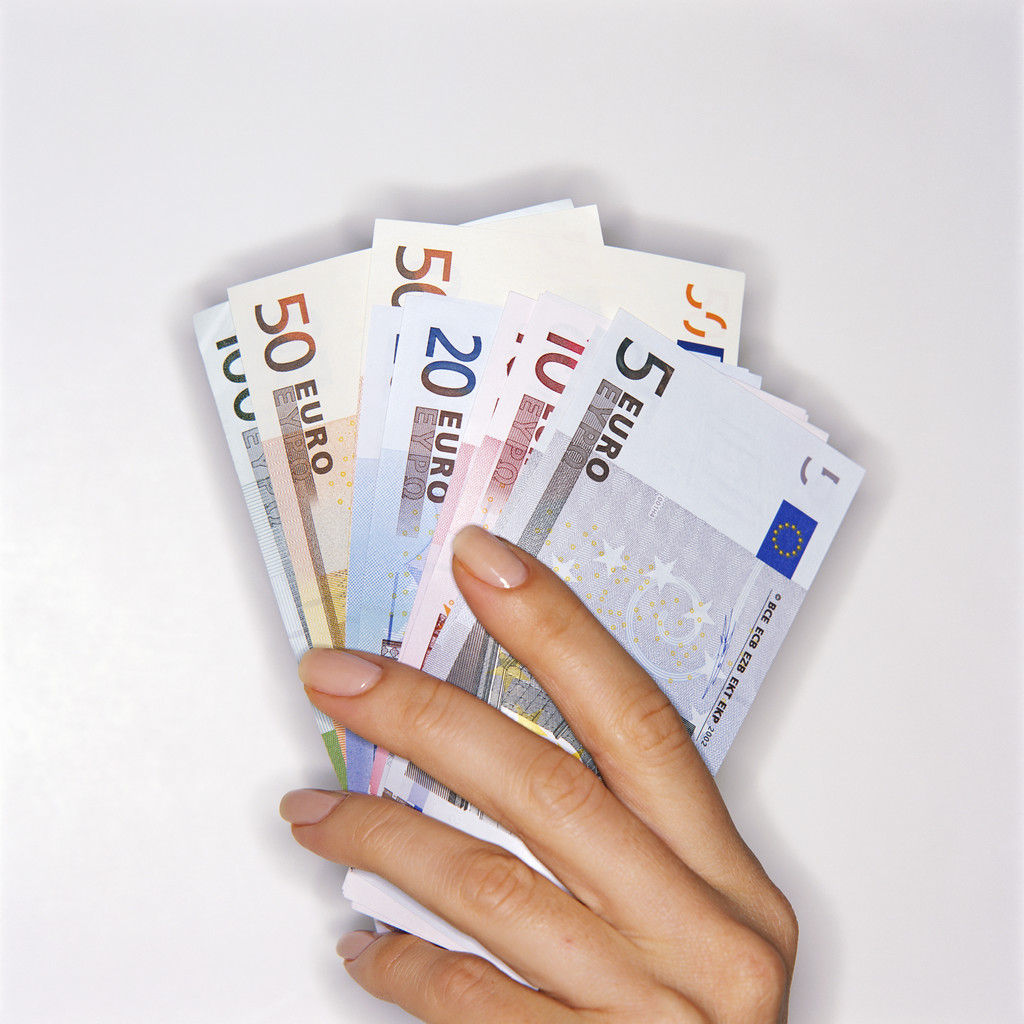billete: (185, 193, 873, 993)
